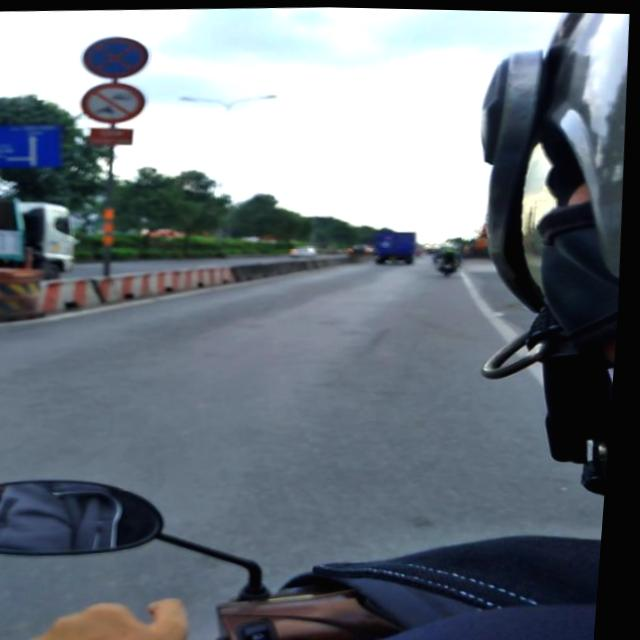Cam dung xe va do xe: (81, 34, 151, 79)
